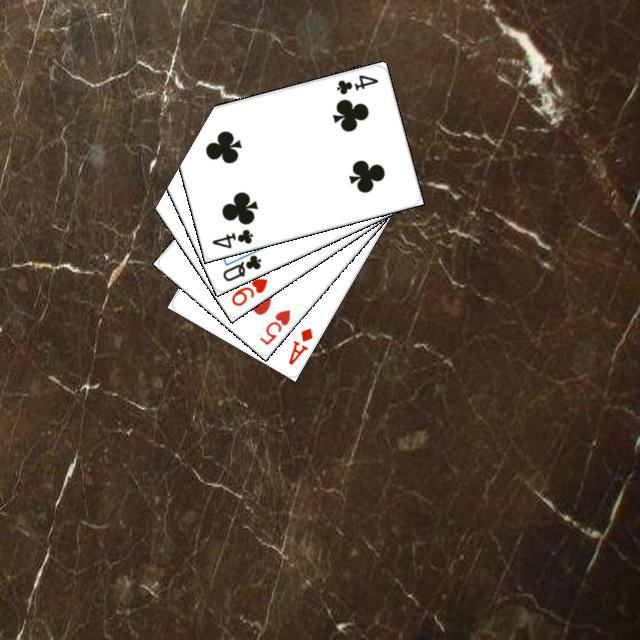4c: (331, 70, 380, 96), (207, 224, 255, 250)
5h: (254, 304, 292, 347)
9h: (226, 273, 270, 308)
Ad: (283, 323, 315, 367)
Qc: (218, 243, 263, 283)
